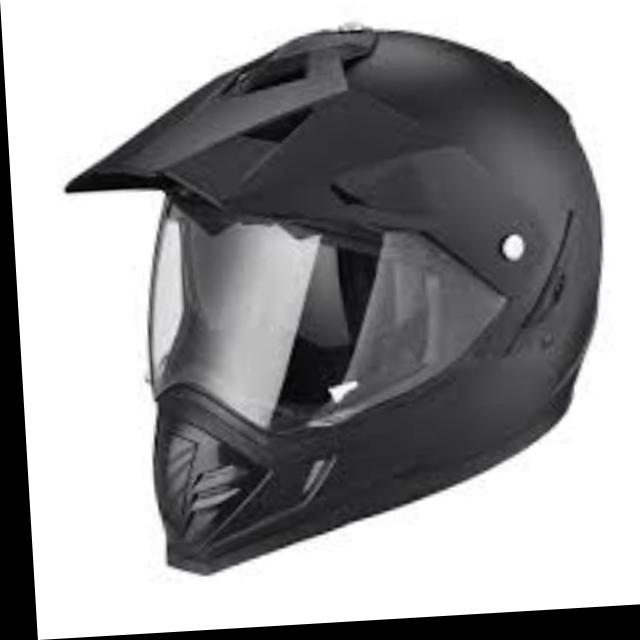motorcycle-helmets: (48, 1, 635, 591)
